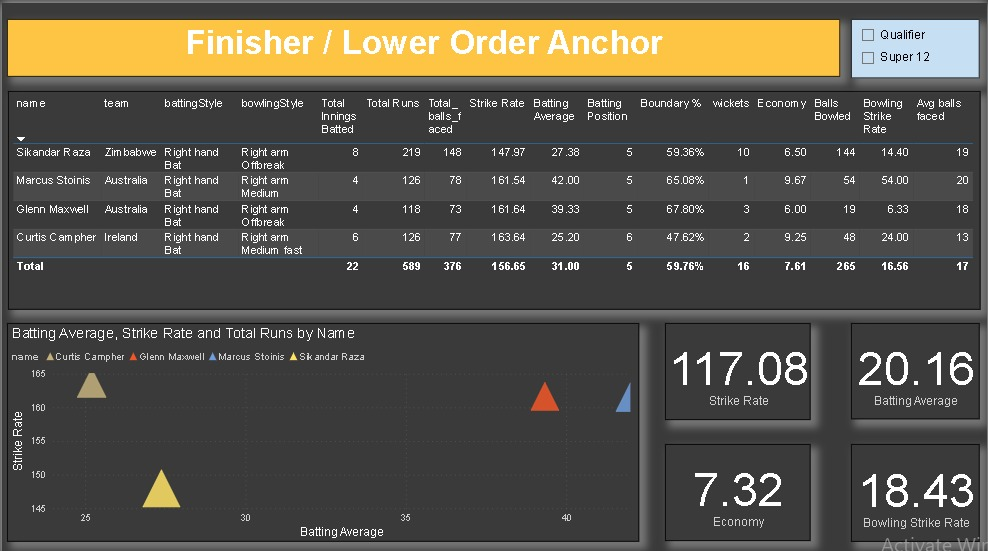

The dashboard page shown, as its layout file describes it:
{"tool":"powerbi","page":{"name":"Finisher / Lower Order Anchor","canvas":[1280,720],"ordinal":2},"visuals":[{"type":"tableEx","fields":{"Values":["dim_players.name","dim_players.team","dim_players.battingStyle","dim_players.bowlingStyle","Key_Measures.Total Innings Batted","Key_Measures.Total Runs","Key_Measures.Total_balls_faced","Key_Measures.Strike Rate","Key_Measures.Batting Average","Key_Measures.Batting Position","Key_Measures.Boundary %","Key_Measures.wickets"]},"box":[7.2,113.8,1262.9,283.7],"z":0},{"type":"card","fields":{"Values":["Key_Measures.Strike Rate"]},"box":[860.9,415.6,189.4,126.2],"z":1000},{"type":"card","fields":{"Values":["Key_Measures.Batting Average"]},"box":[1103,416.2,167,125.3],"z":2000},{"type":"card","fields":{"Values":["Key_Measures.Bowling Strike Rate"]},"box":[1103,573.1,167,126.7],"z":3000},{"type":"card","fields":{"Values":["Key_Measures.Economy"]},"box":[860.9,573.4,189.4,126.2],"z":4000},{"type":"scatterChart","title":"Batting Average, Strike Rate and Total Runs by Name","fields":{"Category":["dim_players.name"],"X":["Key_Measures.Batting Average"],"Y":["Key_Measures.Strike Rate"],"Series":["dim_players.name"],"Size":["Key_Measures.Total Runs"]},"box":[7,415.6,820.6,284.1],"z":5000},{"type":"textbox","box":[7,21,1081.9,75.4],"z":6000},{"type":"slicer","fields":{"Values":["dim_match_summary.stage"]},"box":[1102.9,21,166.6,77.2],"z":7000}]}

Visuals, with their boxes in screenshot pixels (x1, y1, x2, y2), scaled from the page's 1280x720 canvas onto the 988x551 screenshot:
tableEx - dim_players.name x dim_players.team: region(6, 87, 980, 304)
card - Key_Measures.Strike Rate: region(665, 318, 811, 415)
card - Key_Measures.Batting Average: region(851, 319, 980, 414)
card - Key_Measures.Bowling Strike Rate: region(851, 439, 980, 536)
card - Key_Measures.Economy: region(665, 439, 811, 535)
"Batting Average, Strike Rate and Total Runs by Name" scatterChart: region(5, 318, 639, 535)
textbox: region(5, 16, 840, 74)
slicer - dim_match_summary.stage: region(851, 16, 980, 75)
